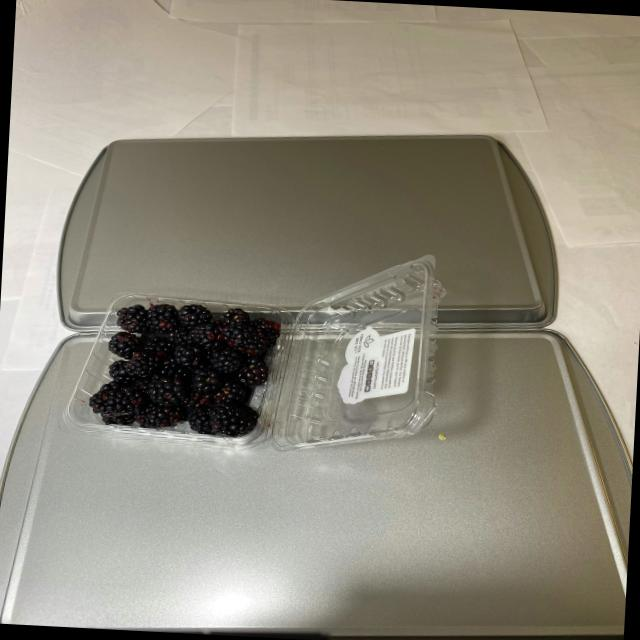blackberries: (100, 296, 270, 438)
